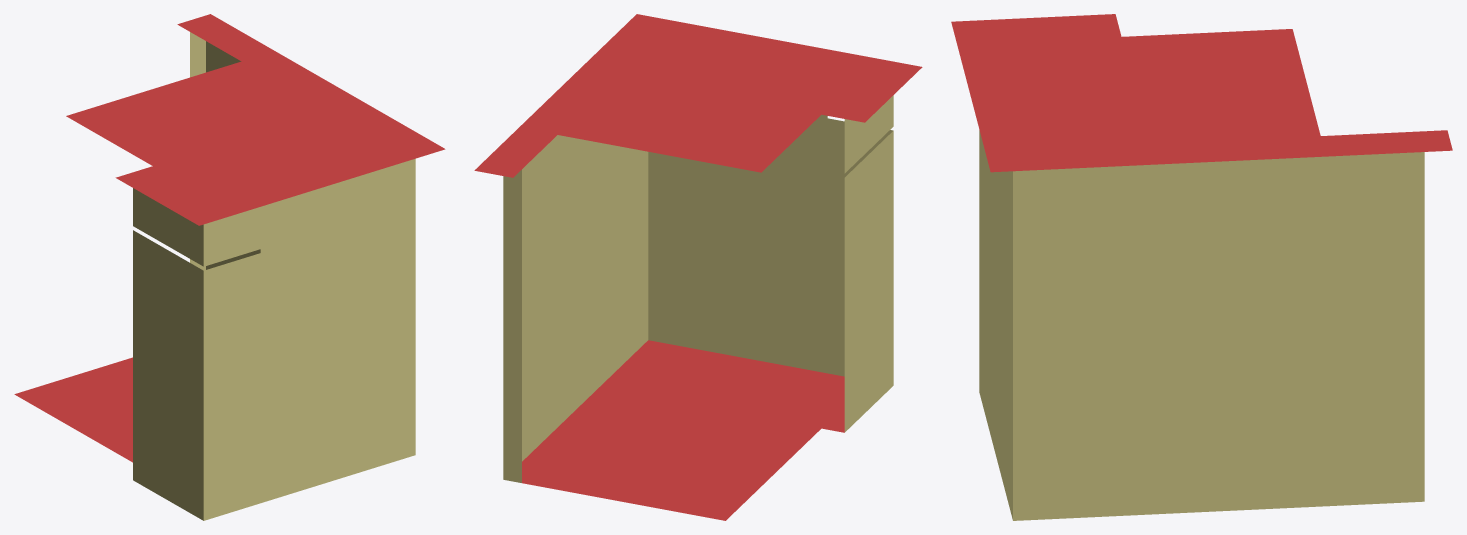
3 renders of one model, left to right at view 1: azimuth 30°, elevation 25°; view 2: azimuth 150°, elevation 25°; view 3: azimuth 270°, elevation 25°, orthographic. The views are drawn at different scales.
Size of the model in its own units: 7.37 by 9.87 by 7.83.
